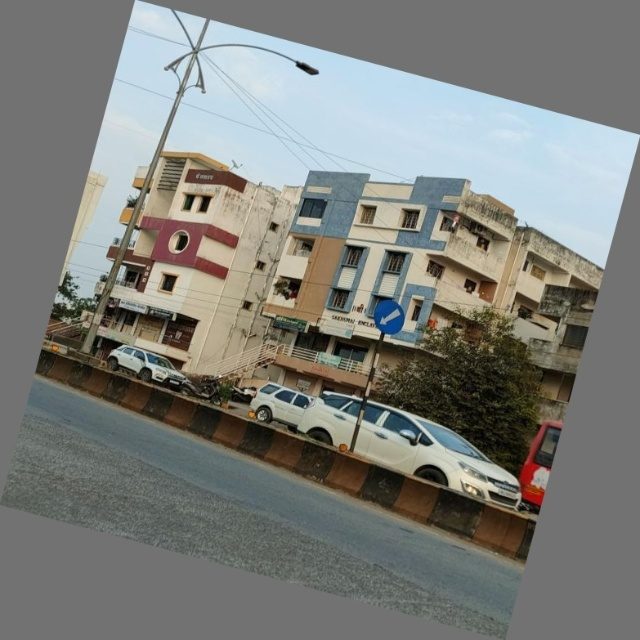R.301e: (364, 290, 423, 349)
